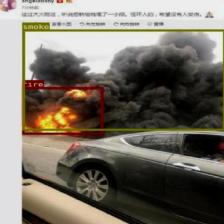fire: (21, 87, 103, 134)
smoke: (21, 29, 224, 130)
